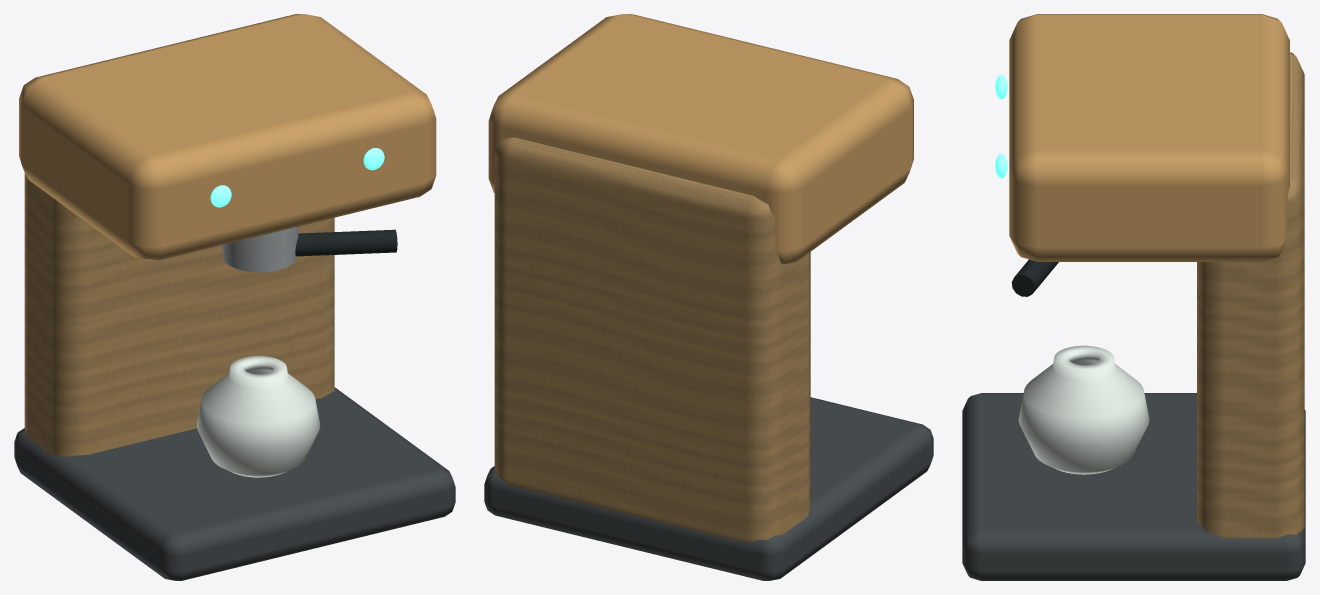
File: espresso_veranda-799551665c89.glb
3 renders of one model, left to right at view 1: azimuth 30°, elevation 25°; view 2: azimuth 150°, elevation 25°; view 3: azimuth 270°, elevation 25°, orthographic. The views are drawn at different scales.
Parts seen in each view (by area): view 1: surface_brass, surface_bamboo, surface_graphite, surface_porcelain, surface_steel, surface_black, surface_cyan; view 2: surface_bamboo, surface_brass, surface_graphite; view 3: surface_brass, surface_graphite, surface_bamboo, surface_porcelain, surface_black, surface_cyan.
Part boxes in pixels (x1,y1,x2,y2): surface_brass: (19, 14, 436, 260); surface_bamboo: (24, 173, 334, 456); surface_graphite: (14, 387, 455, 580); surface_porcelain: (197, 356, 320, 477); surface_steel: (222, 226, 298, 272); surface_black: (295, 229, 397, 256); surface_cyan: (210, 148, 384, 207); surface_bamboo: (494, 137, 810, 543); surface_brass: (488, 14, 913, 264); surface_graphite: (484, 397, 933, 580); surface_brass: (1009, 14, 1289, 261); surface_graphite: (962, 393, 1305, 580); surface_bamboo: (1197, 52, 1304, 538); surface_porcelain: (1018, 345, 1149, 474); surface_black: (1011, 259, 1058, 296); surface_cyan: (995, 74, 1007, 178).
Bounding box in the file's own units: 0.24 × 0.3045 × 0.22.
Materials: 7 (1 with a texture image).
